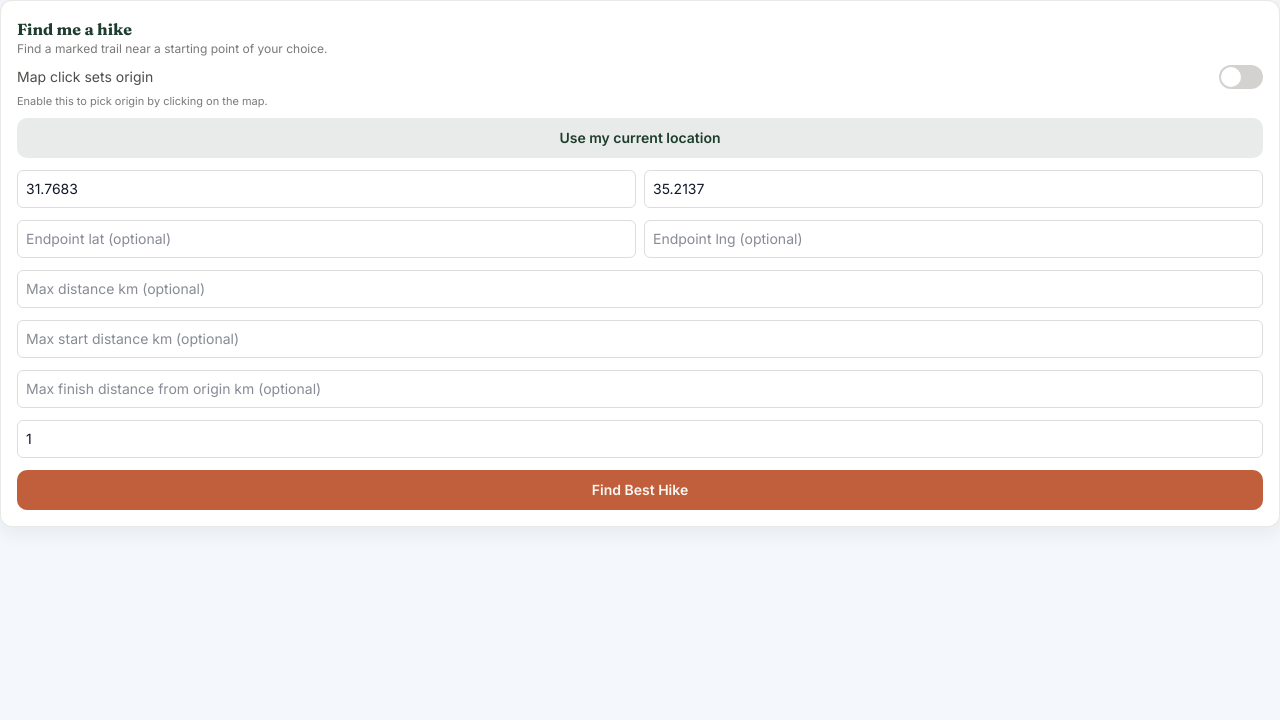
Test: HikeSearchPanel validation › rejects non-positive max distance
Type "0" into the field with placeholder "Max distance km (optional)" at (640, 288), box [17,270,1263,308]
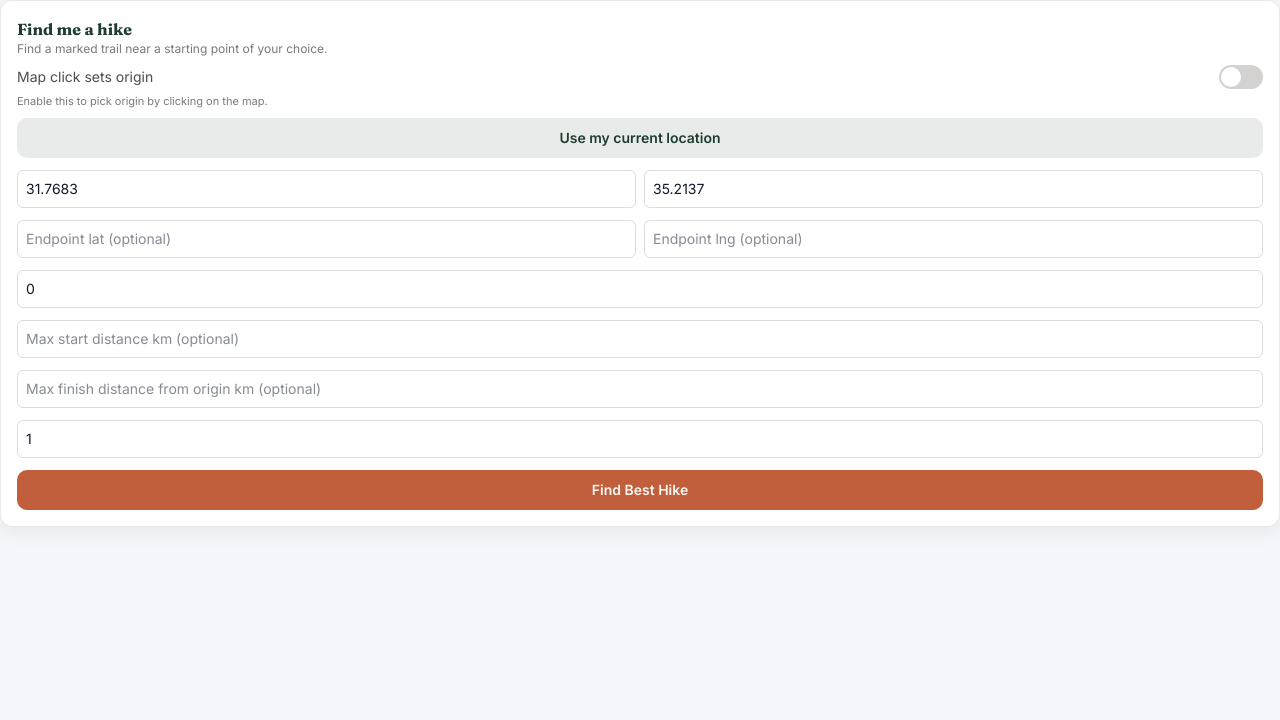
Click the button "Find Best Hike" at (640, 490), box [17,470,1263,510]
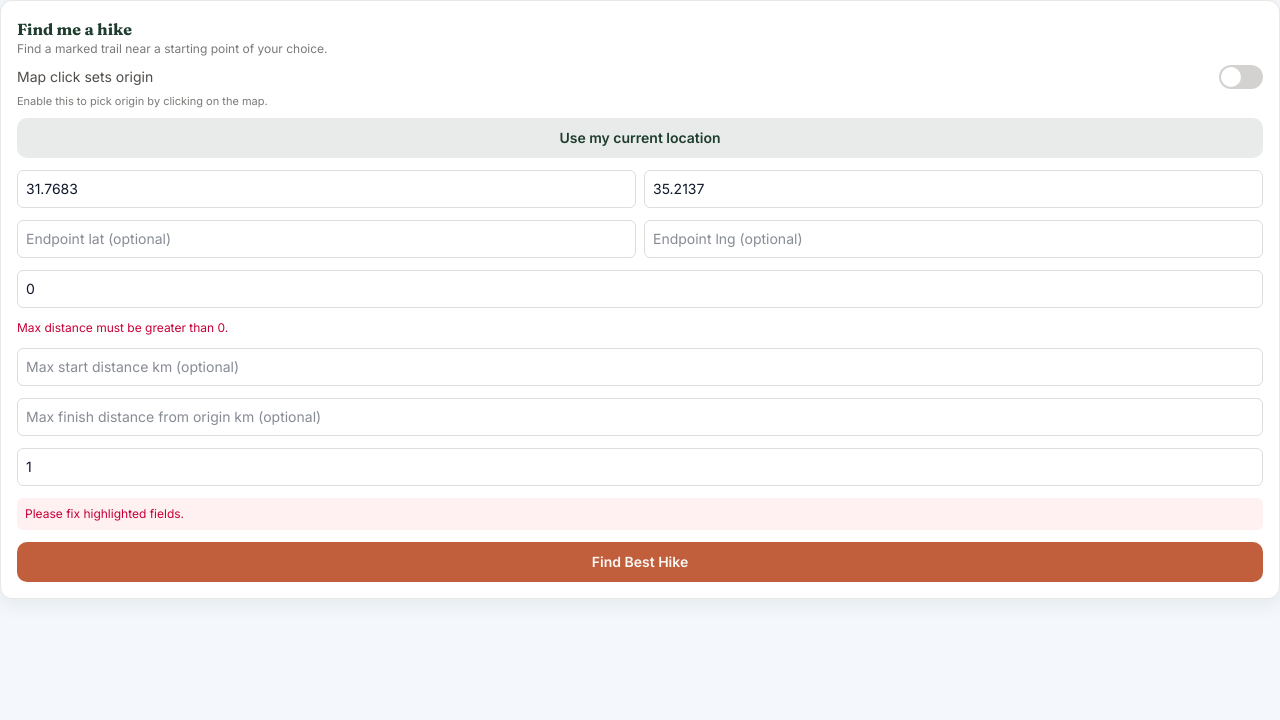
Expected: the text "Max distance must be greater than 0." is shown, [17,320,228,334]
